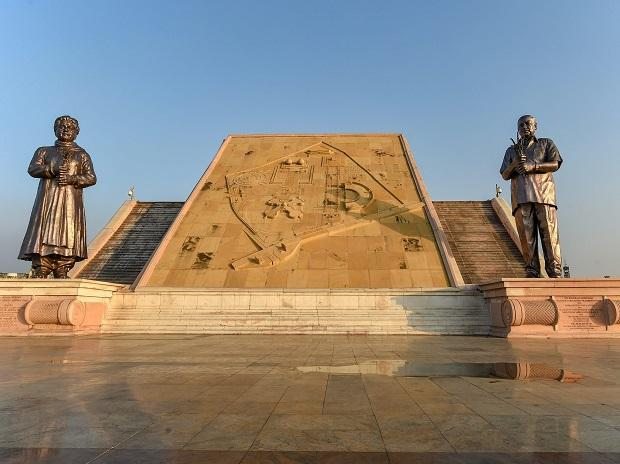person-like: (12, 107, 102, 281), (497, 112, 570, 281)
